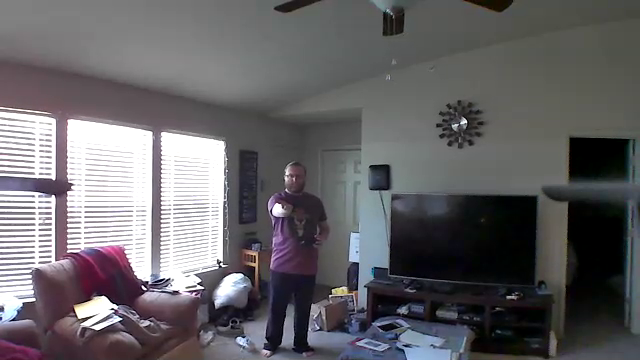land: (272, 196, 296, 214)
